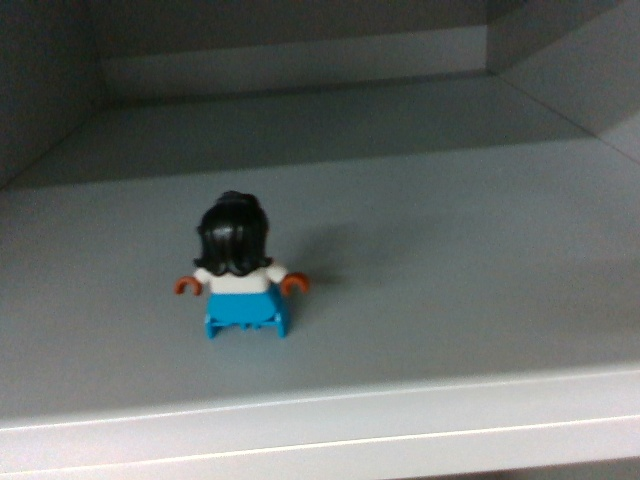people: (175, 189, 311, 344)
